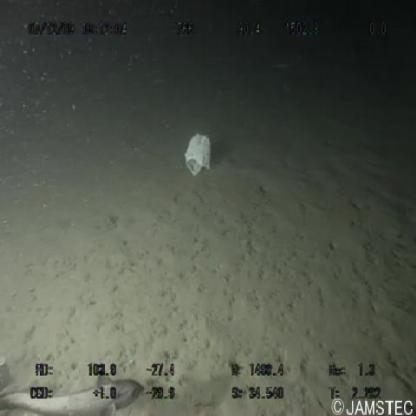Bio: (1, 360, 151, 416)
Rác: (183, 128, 217, 178)
